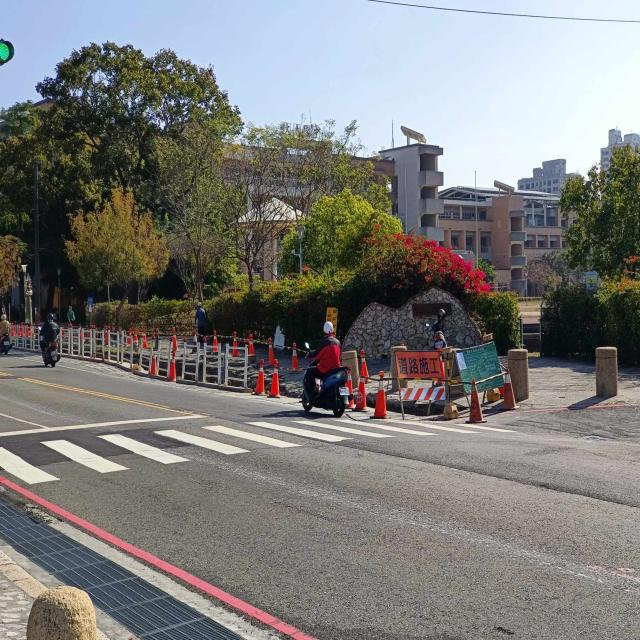zebra_crossing: (158, 189, 498, 555), (102, 151, 300, 453), (34, 151, 101, 470), (26, 175, 86, 505), (0, 222, 15, 640)
